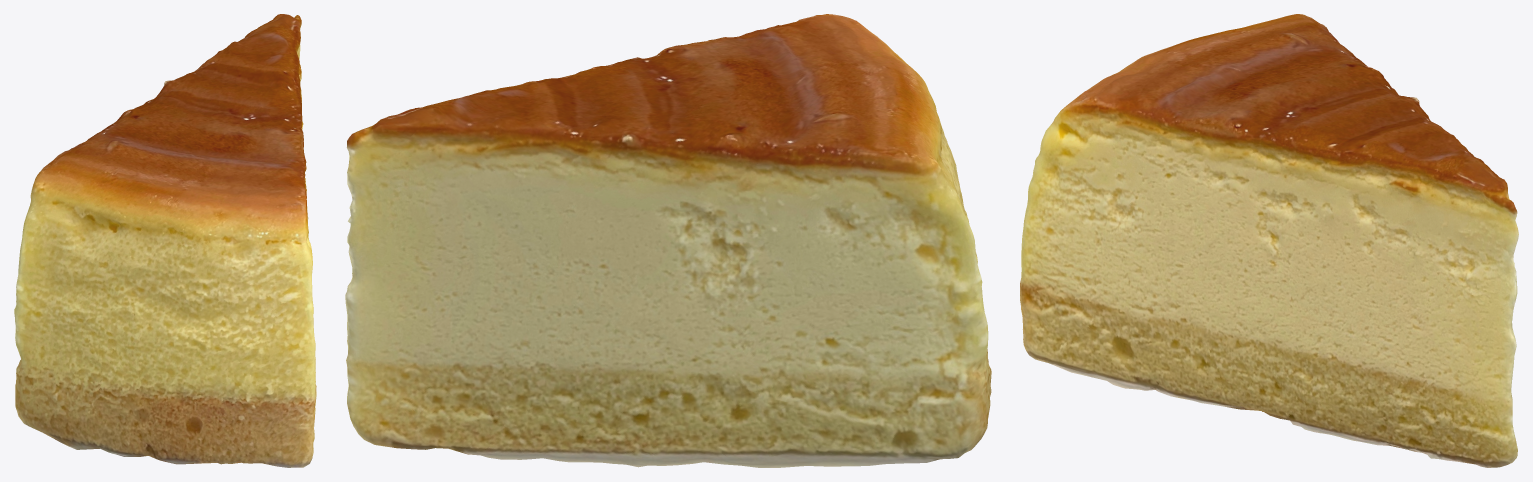
3 renders of one model, left to right at view 1: azimuth 30°, elevation 25°; view 2: azimuth 150°, elevation 25°; view 3: azimuth 270°, elevation 25°, orthographic. The views are drawn at different scales.
Visible parts, largest first — view 1: cake_0; view 2: cake_0; view 3: cake_0.
Boxes of the visible parts, x1,y1,x2,y2 form: cake_0: (14, 14, 316, 467); cake_0: (345, 14, 991, 467); cake_0: (1020, 14, 1518, 467).
Bounding box in the file's own units: 0.089 × 0.0583 × 0.0871.
1 material, 1 textured.
